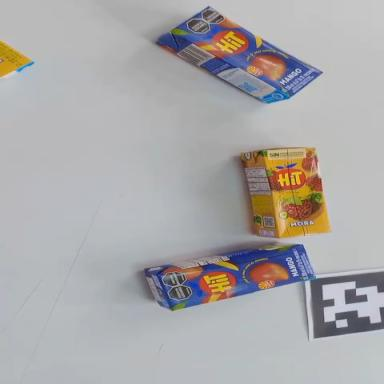HIT-MANGO: (155, 0, 322, 123), (144, 233, 315, 314)
HIT-MORA: (240, 141, 330, 244), (0, 40, 34, 90)
cara_F: (171, 0, 324, 109), (160, 242, 316, 312), (262, 141, 331, 242), (0, 40, 32, 88)
